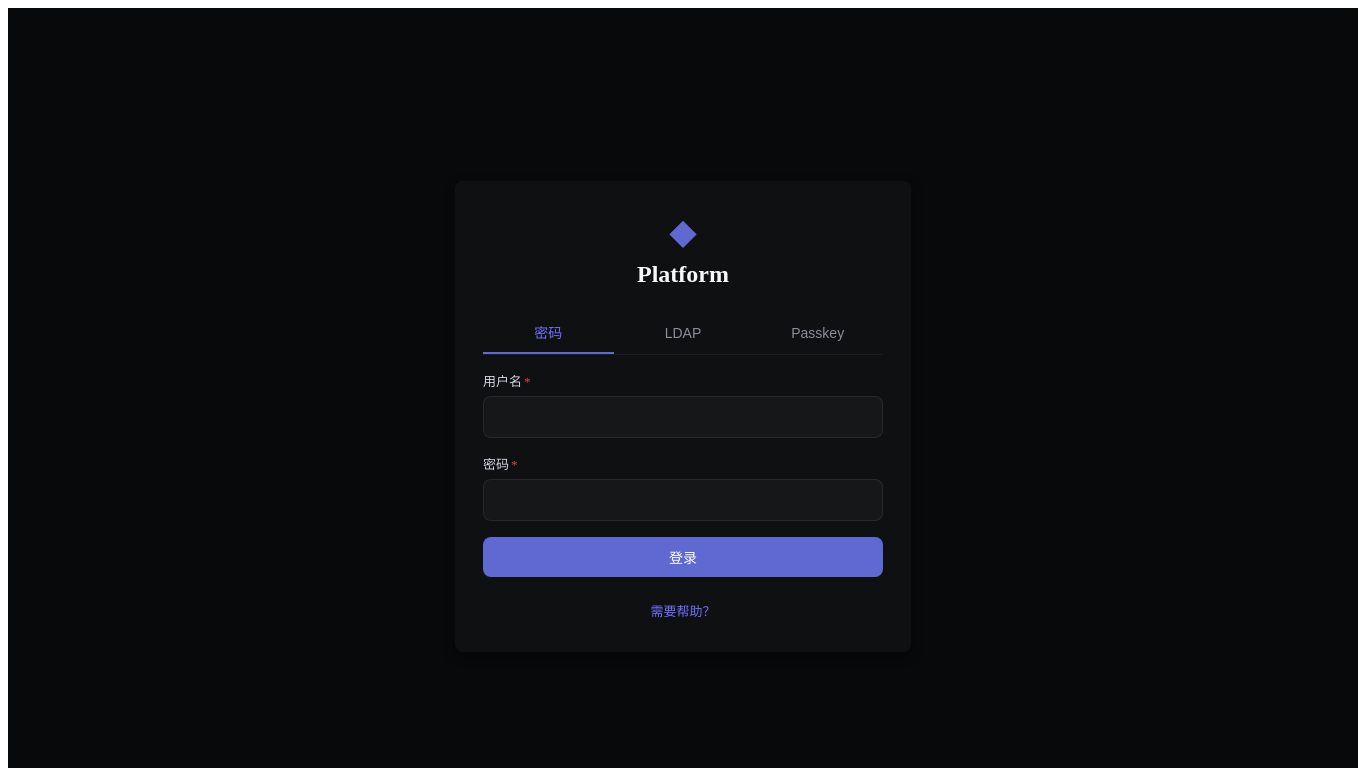
Test: AC：未知错误回退原文（mapErrorToContractKey 非 ApiError 路径） › passkey 流程抛非 ApiError 非 AbortError → 回退 message 原文
The width and height of the screenshot is (1366, 768).
Click the tab with class "login-tab" showing "Passkey".
click(818, 332)  # box [752,312,883,354]
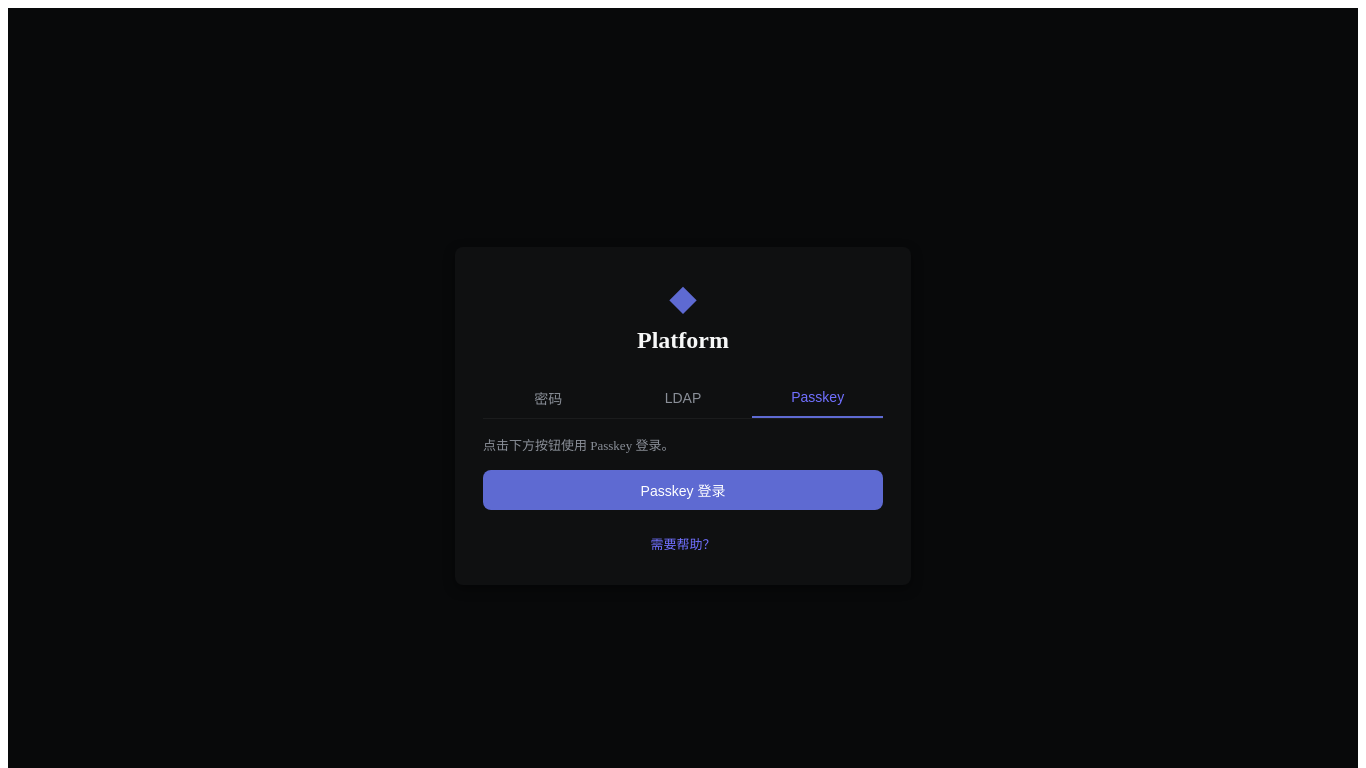
Submit the form, box [483,435,883,510]
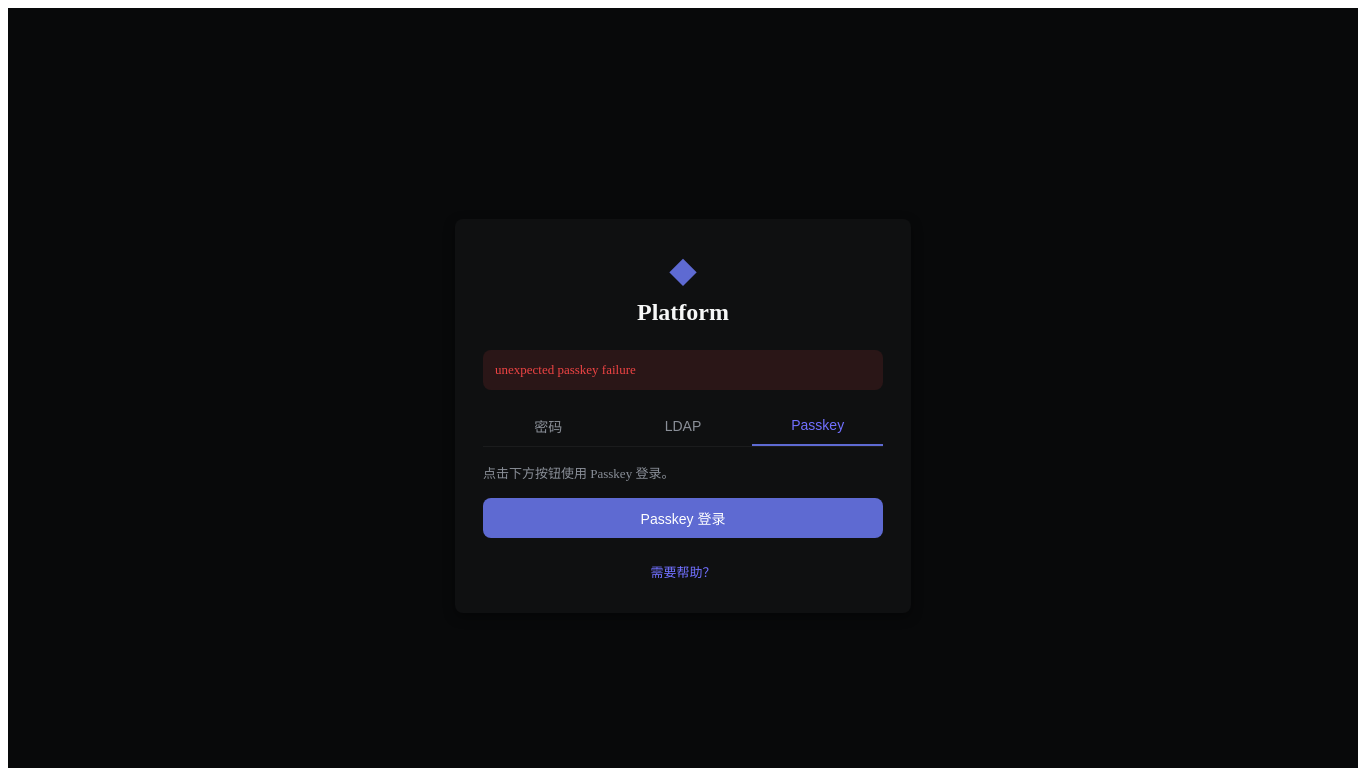
Check: the message with class "login-error" reads "unexpected passkey failure", box [495,362,636,377]
